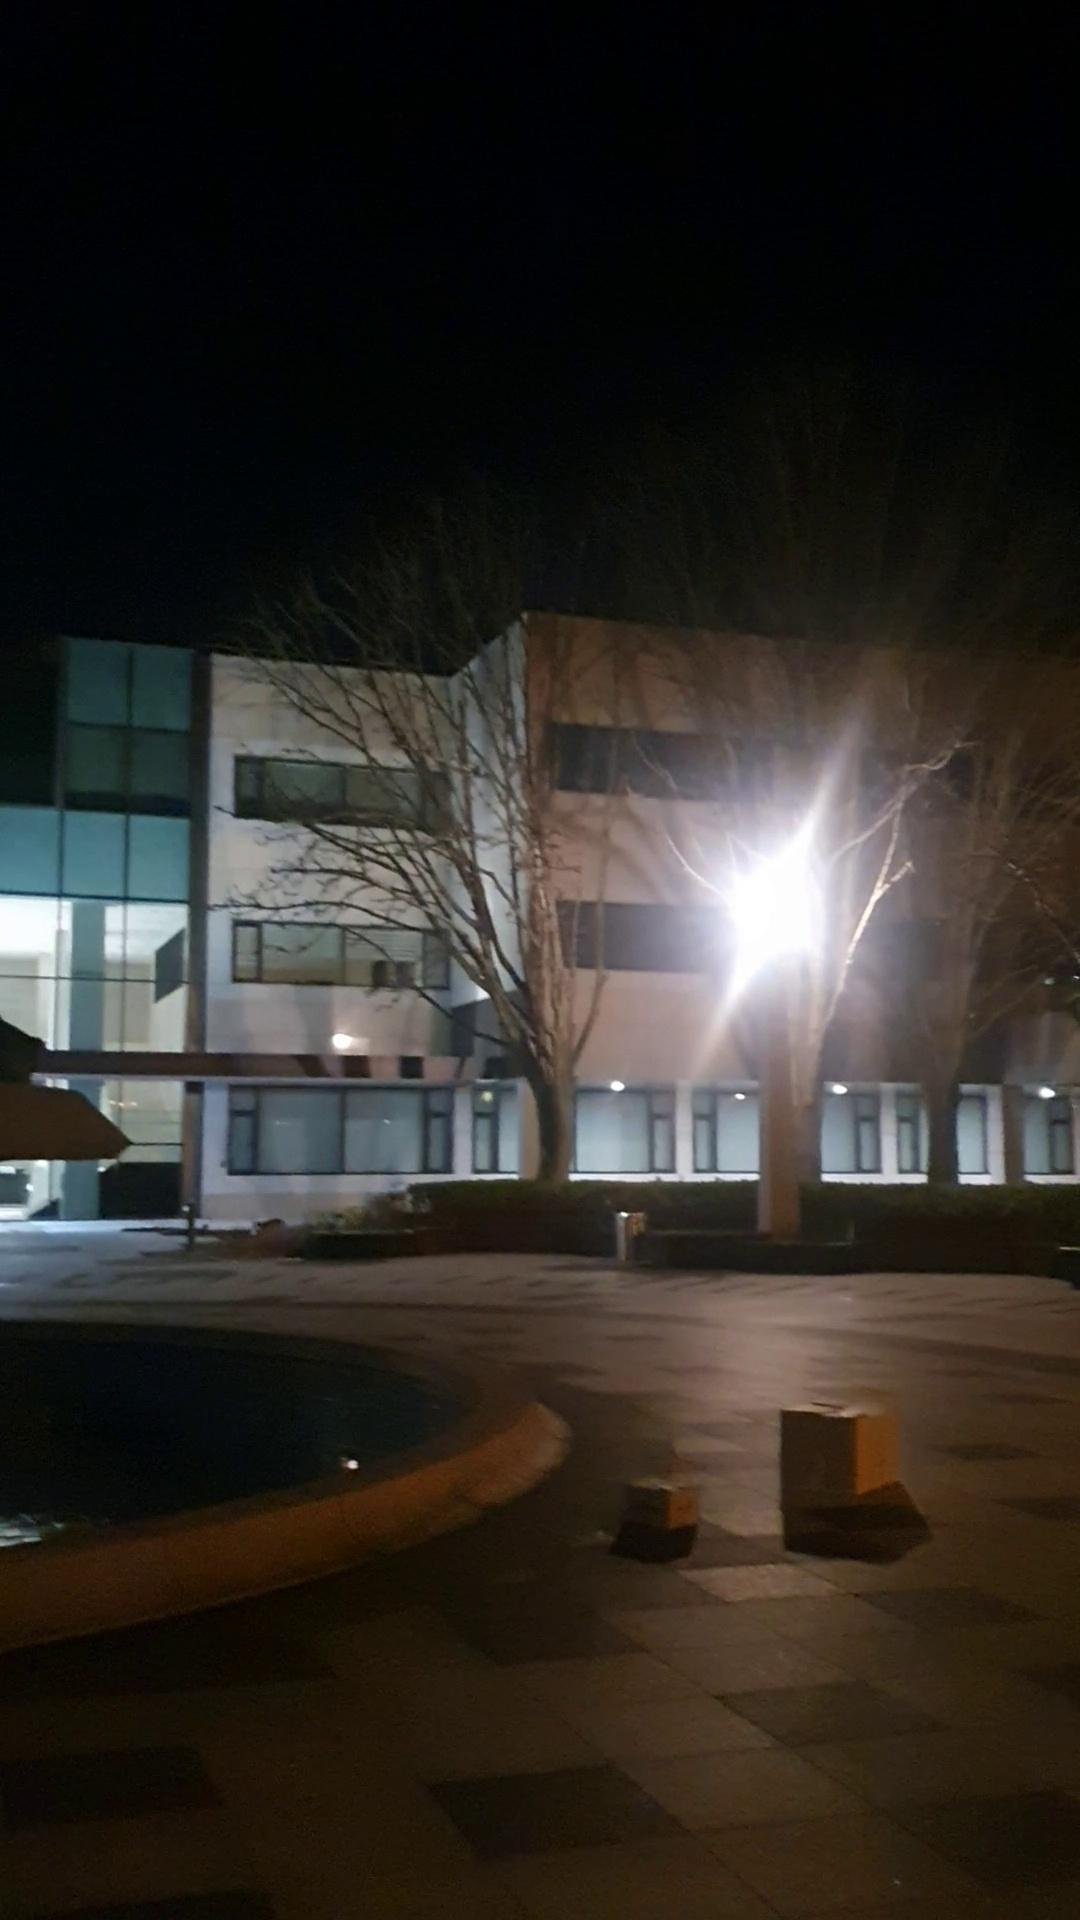Box: (758, 1379, 934, 1530), (608, 1478, 698, 1545)
